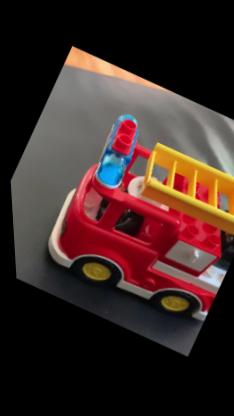lego fire truck: (23, 98, 233, 345)
